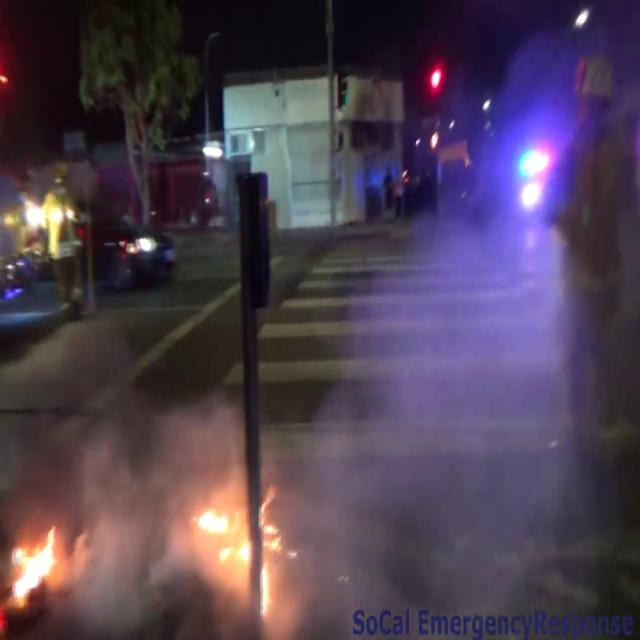Fire: (187, 483, 286, 618), (0, 518, 76, 610)
Smoke: (0, 362, 226, 626)
